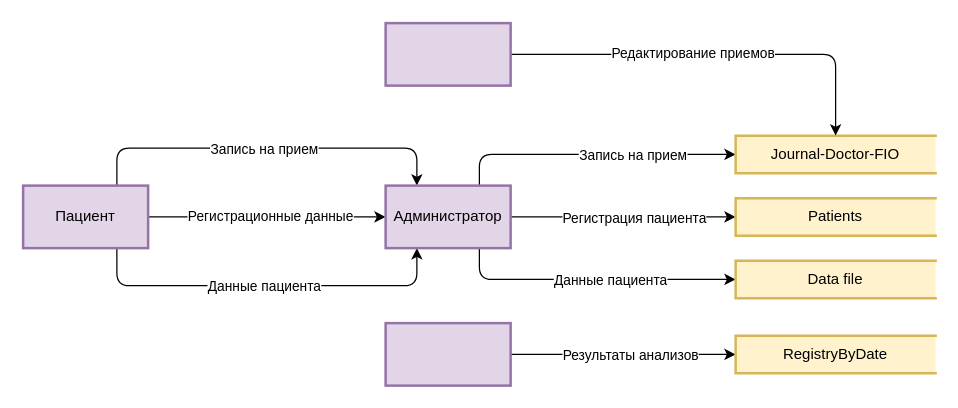
Image size: 958x408. Some labels were removed from this diagram. Here are the shapes that lost their labels. From the top down, the box of each, then its label:
(384, 21, 511, 86): Врач
(384, 321, 511, 386): Лаборатория
